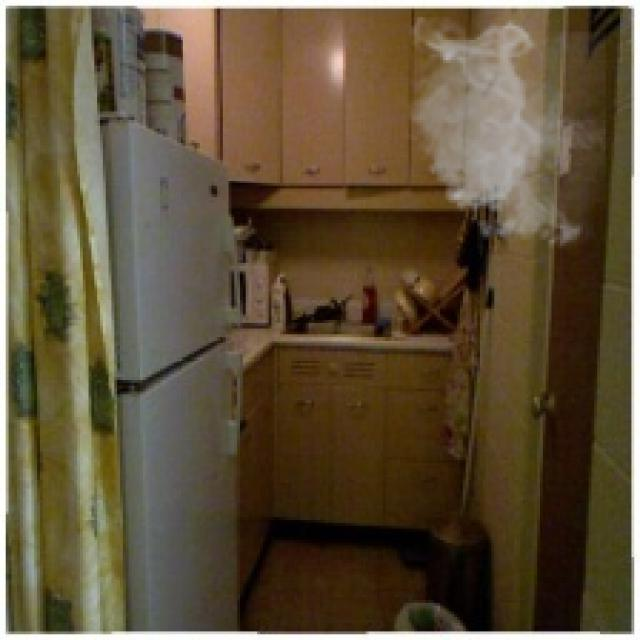smoke: (400, 17, 606, 254)
